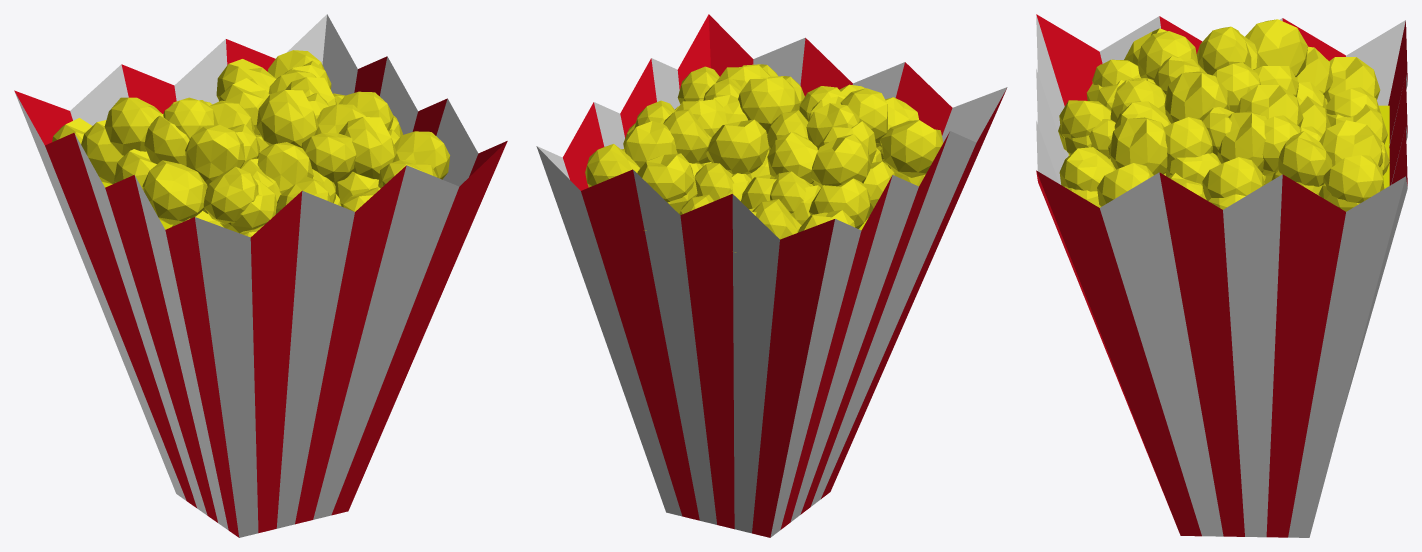
File: Popcorn.fbx
3 views of the same model, side by side, from view 1: azimuth 30°, elevation 25°; view 2: azimuth 150°, elevation 25°; view 3: azimuth 270°, elevation 25° (orthographic). The views are drawn at different scales.
Visible parts, largest first — view 1: Plane; view 2: Plane; view 3: Plane.
Part boxes in pixels (bbox=[...]): Plane: bbox=[14, 14, 507, 537]; Plane: bbox=[536, 14, 1007, 537]; Plane: bbox=[1036, 14, 1407, 537].
Bounding box in the file's own units: 213 × 278 × 213.
